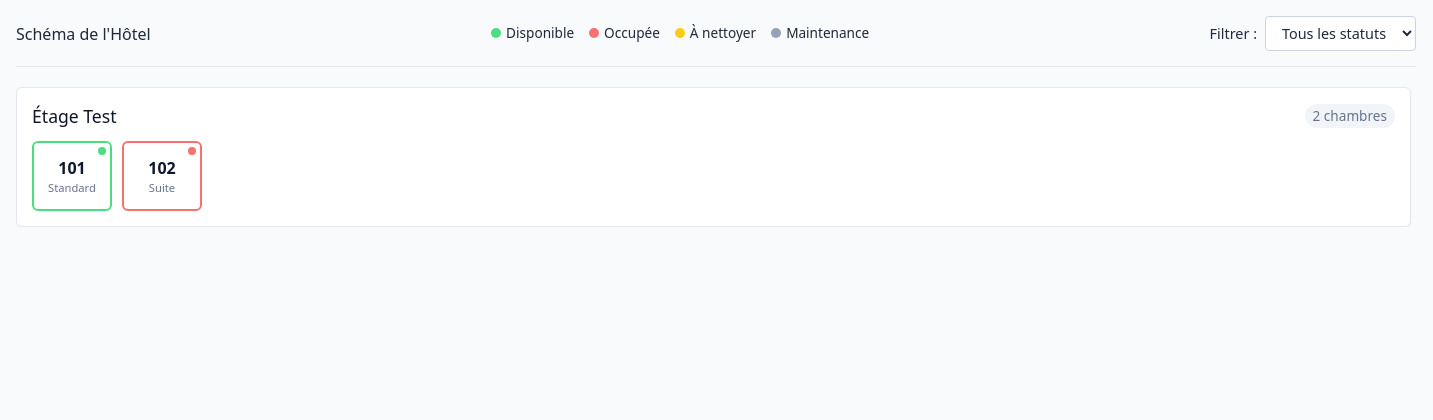
Test case: HotelSchematicView Component › closes details panel when close button is clicked
Click the text "101" at [72, 168], box 58,156 -> 86,180
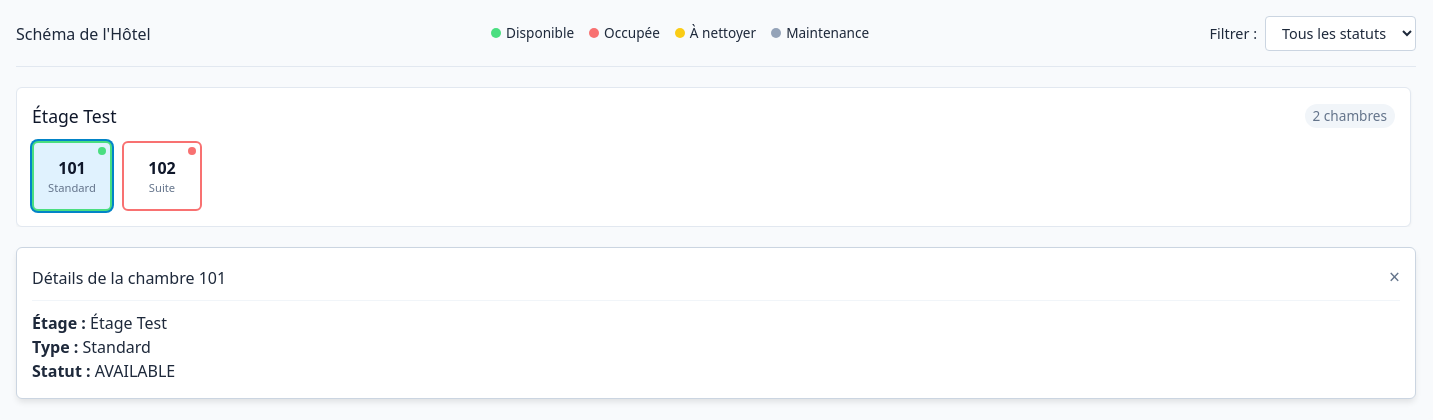
Now the heading "Détails de la chambre 101" is shown, box 32,266 -> 226,290
Click the button "×" at [1394, 278], box 1389,263 -> 1400,292
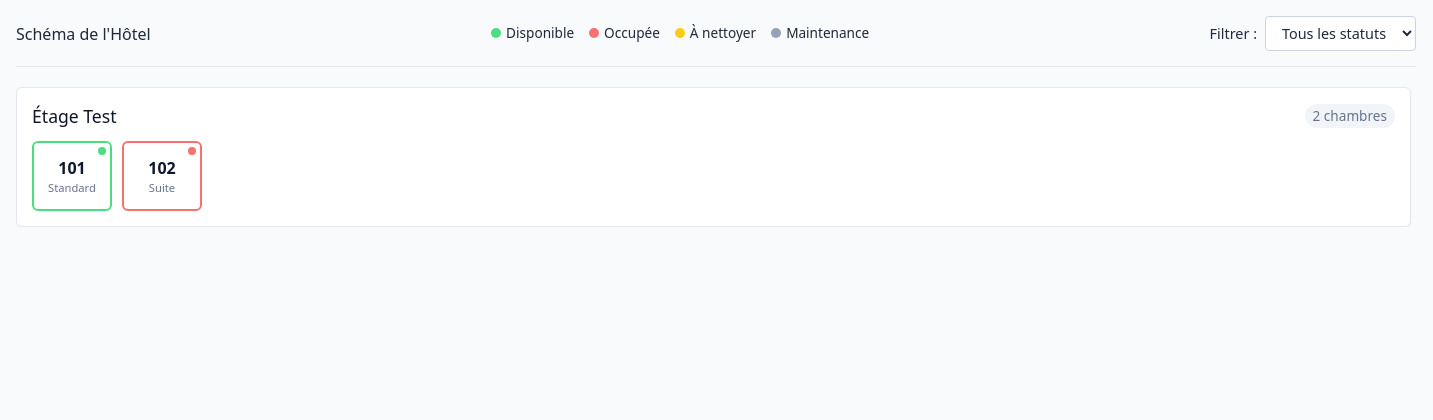
Now the heading "Détails de la chambre 101" is gone
